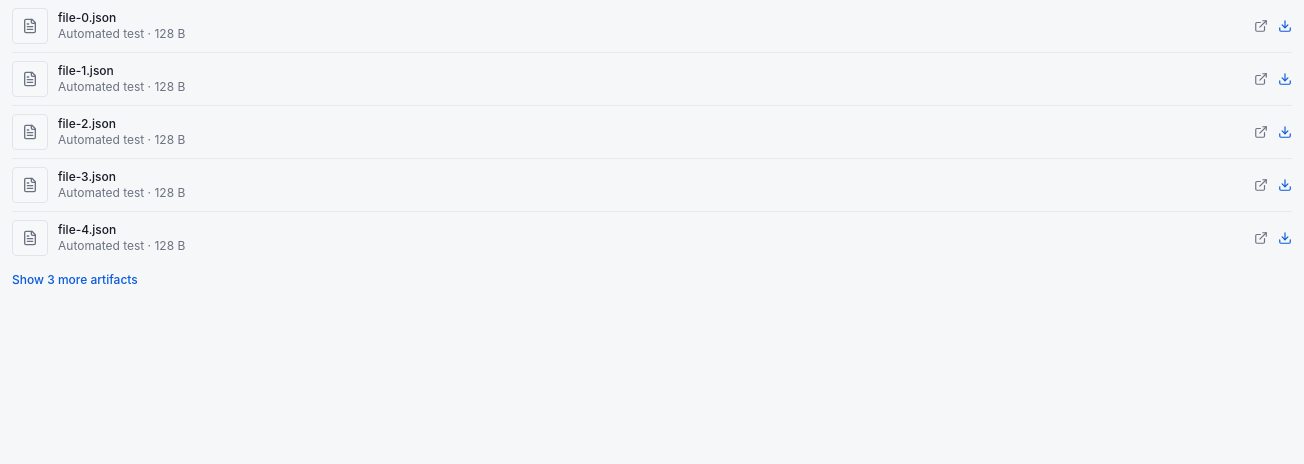
Test case: the evidence rail › turns into a way back once it is open
Click the button "Show 3 more artifacts" at (75, 280), box [12,272,138,288]
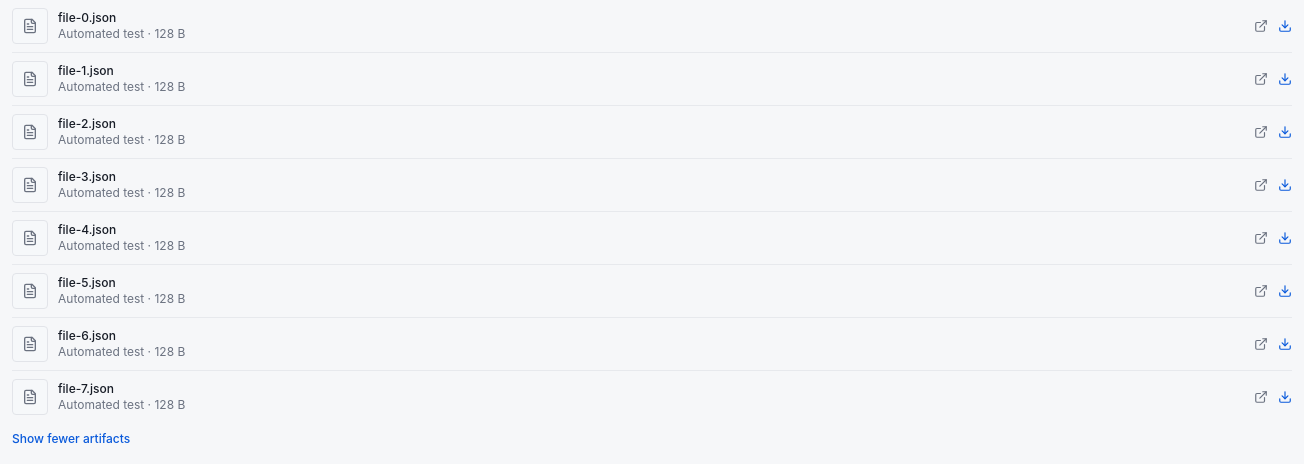
Now the button "Show fewer artifacts" is expanded
Click the button "Show fewer artifacts" at (71, 439), box [12,431,130,447]
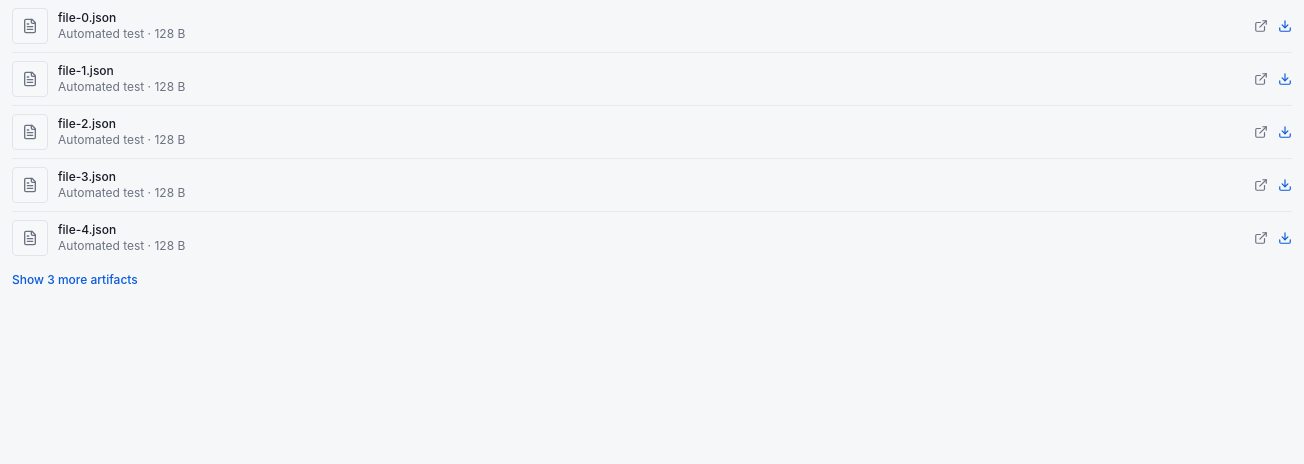
Now the button "Show 3 more artifacts" is shown, box [12,272,138,288]
